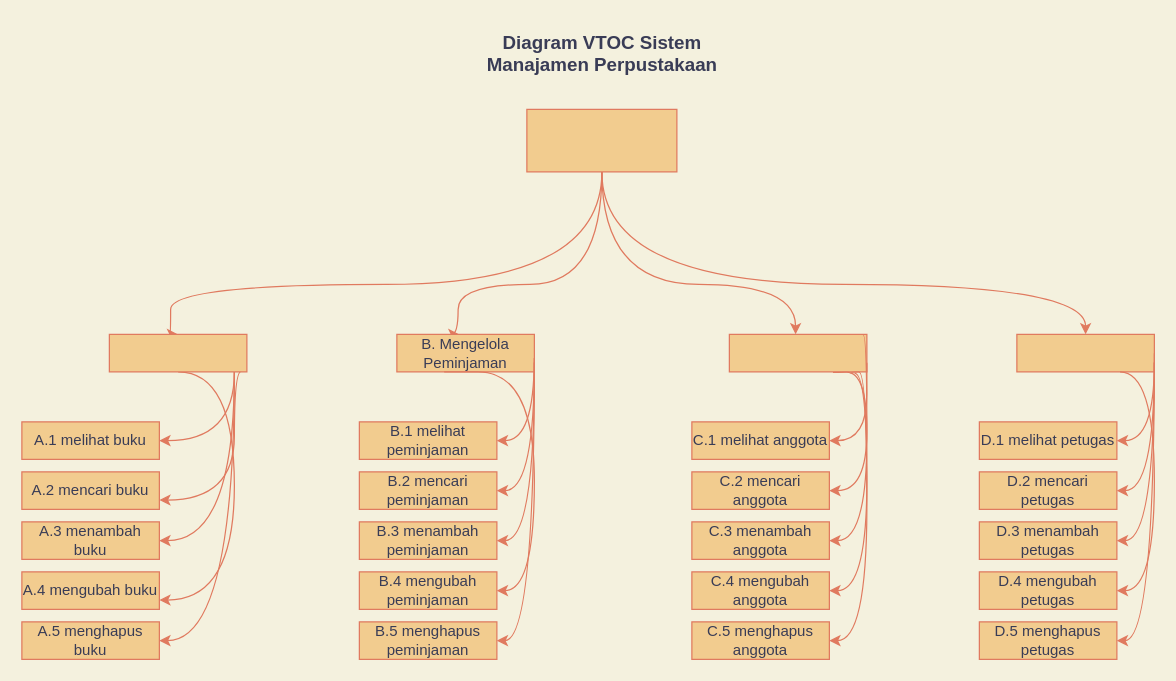
The diagram is 1176 pixels wide and 681 high, and some of its shapes have lost their labels. The shapes that lost their labels are listed below. From the top down, each one's box as (x1, y1, x2, y2) in pixels, then its label:
(526, 108, 677, 172): Sistem Informasi Manajemen Perpustakaan
(108, 333, 247, 372): A. Mengelola Buku
(728, 333, 867, 372): C. Mengelola Anggota
(1016, 333, 1154, 372): D. Mengelola Petugas
